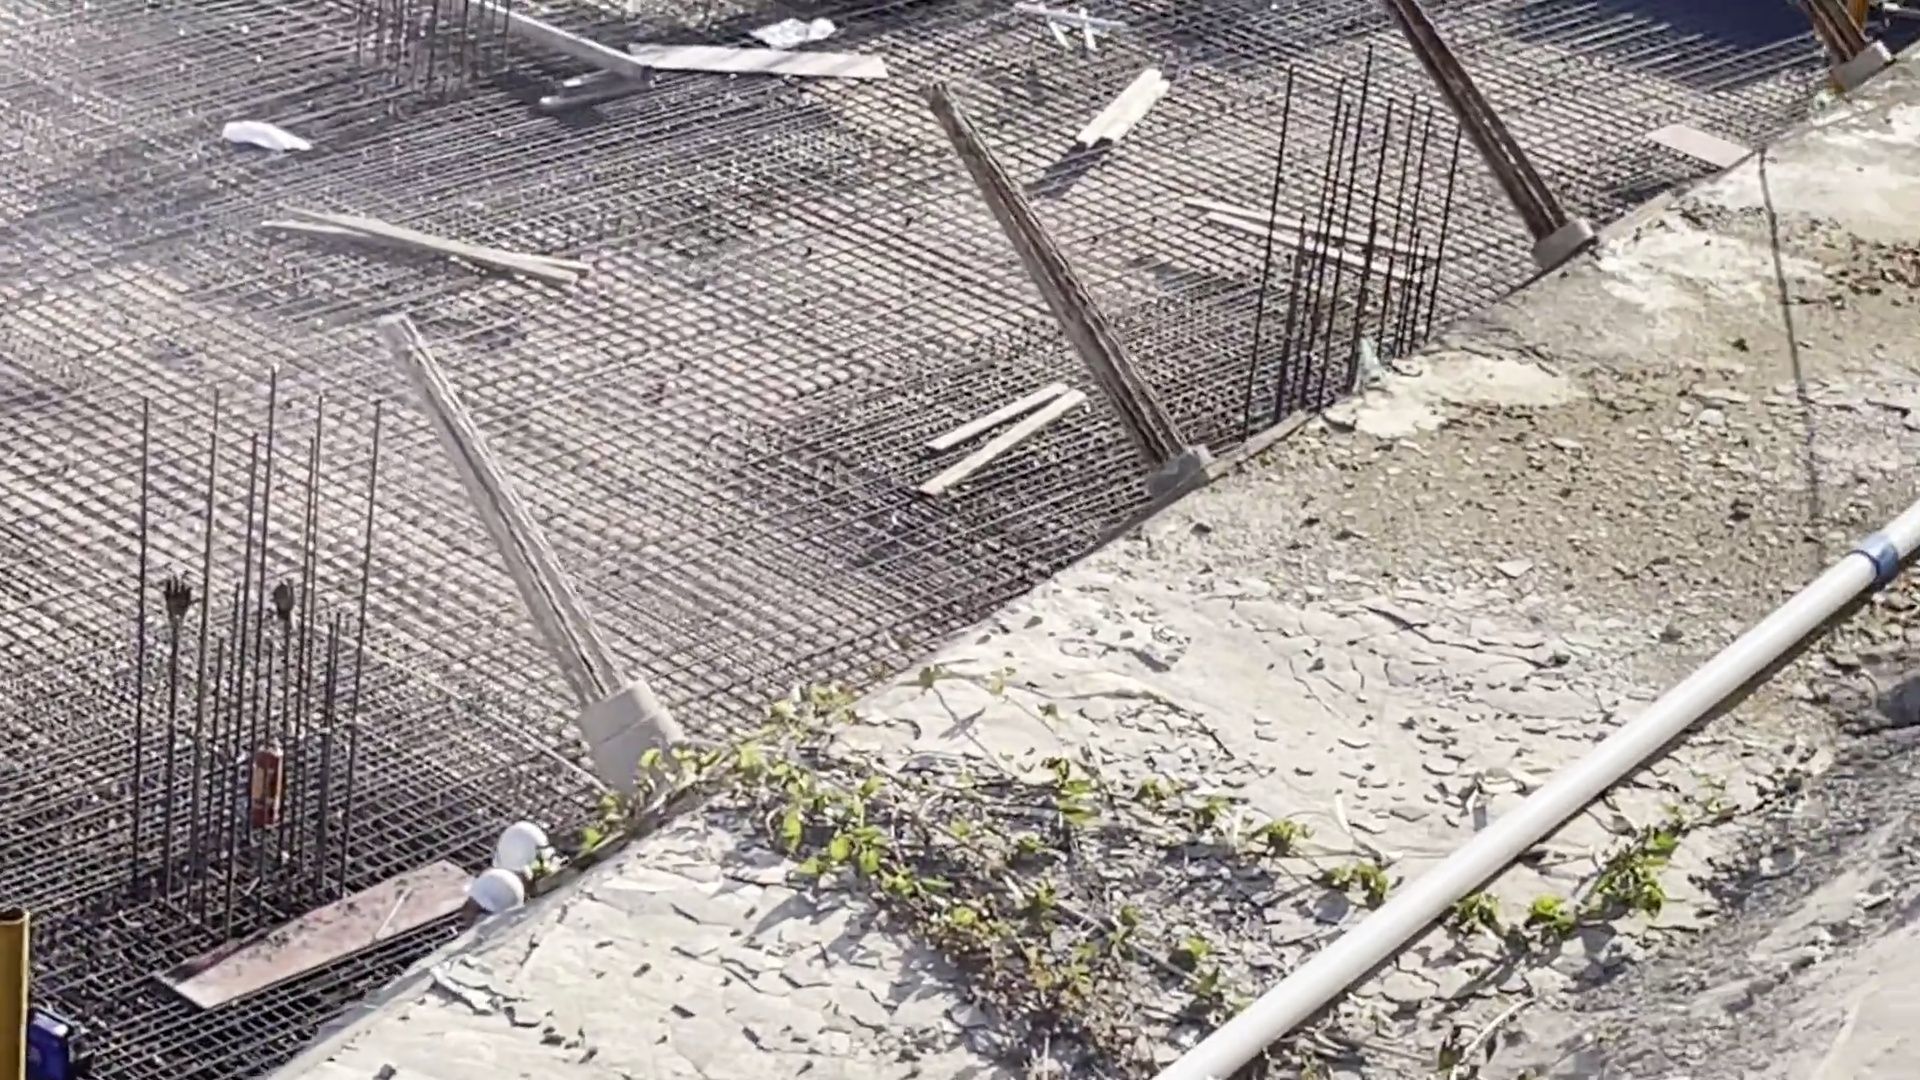helmet: (495, 819, 553, 872), (475, 865, 520, 910)
